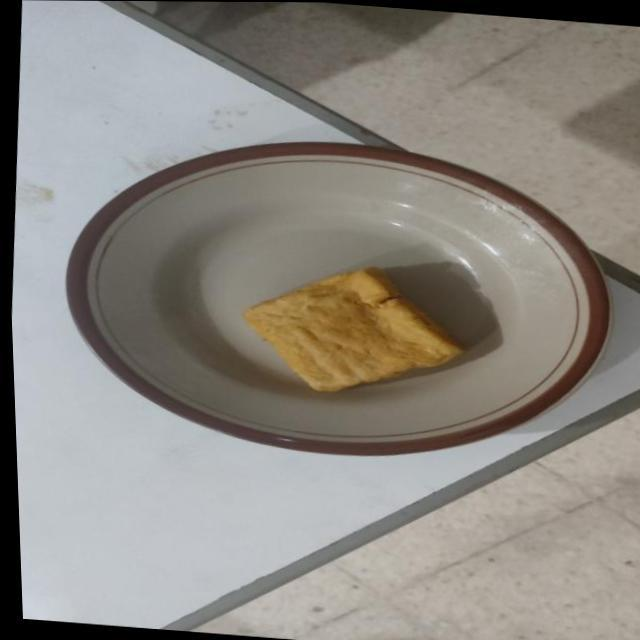tahu_goreng: (244, 267, 462, 391)
